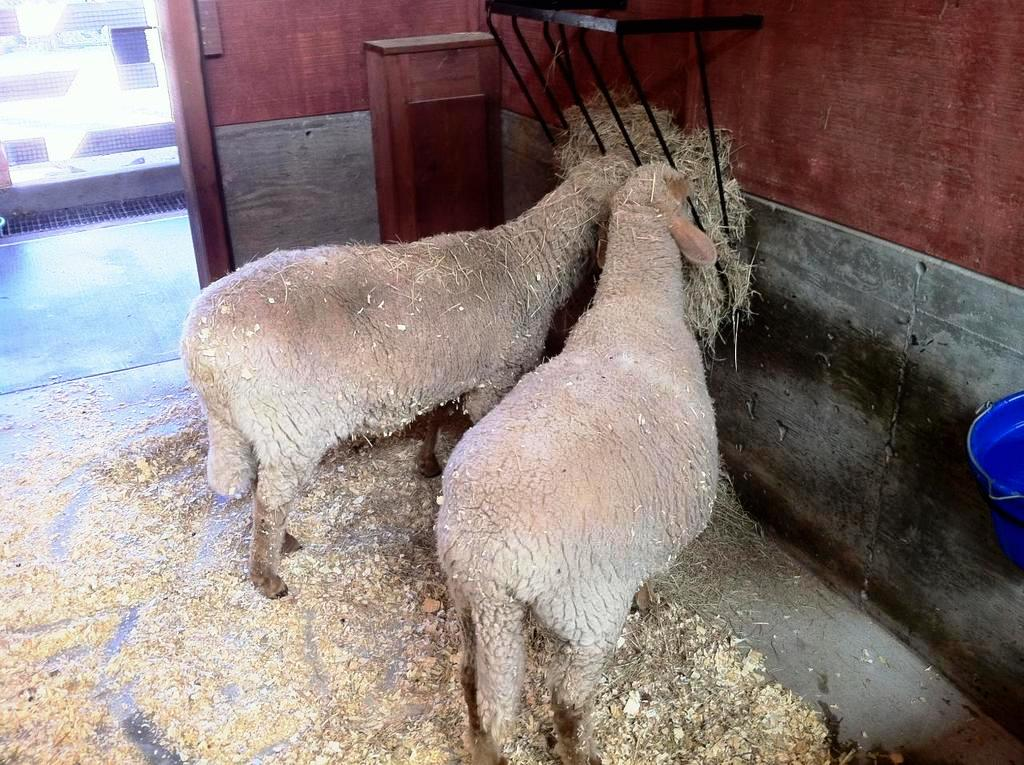Sheep: (178, 152, 630, 592), (417, 155, 734, 765)
